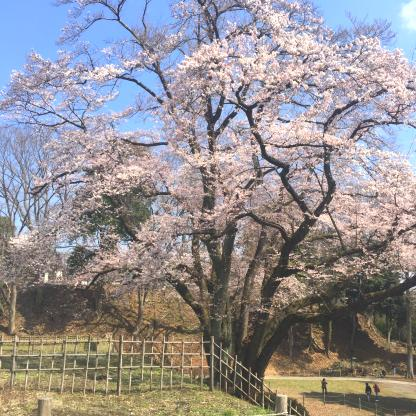EdohiganSakura: (0, 0, 416, 318)
